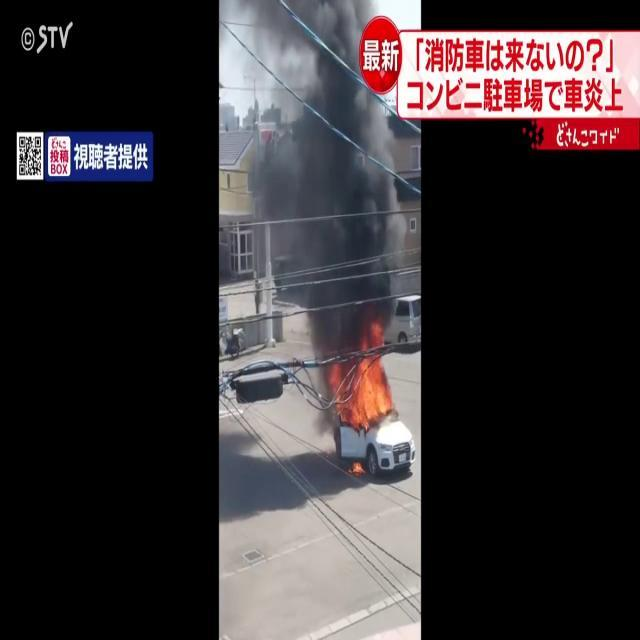Fire: (340, 342, 396, 436)
Smoke: (238, 0, 406, 354)
